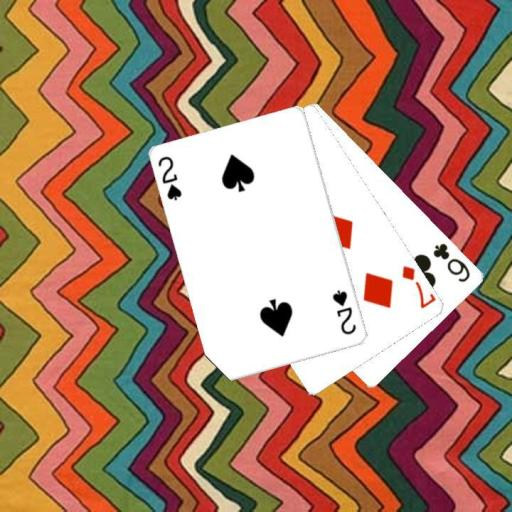2S: (330, 287, 359, 337), (155, 153, 183, 203)
6C: (430, 240, 472, 284)
7D: (399, 262, 436, 311)
